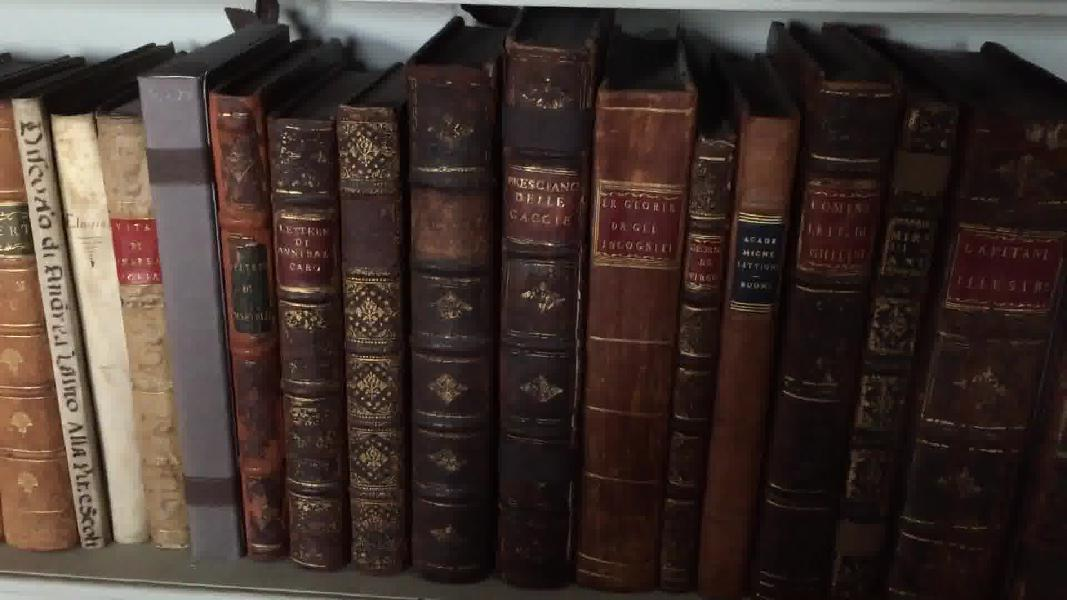Aa6-24: (6, 93, 123, 562)
Aa6-25: (36, 102, 152, 547)
Aa6-26: (97, 98, 200, 561)
Aa6-27: (125, 57, 251, 557)
Aa6-28: (198, 81, 296, 571)
Aa6-29: (271, 113, 355, 573)
Aa6-30: (319, 86, 421, 585)
Aa6-31: (404, 51, 513, 581)
Aa6-32: (493, 35, 585, 590)
Aa6-33: (577, 59, 682, 600)
Aa6-34: (656, 116, 732, 595)
Aa6-35: (690, 93, 809, 600)
Aa6-36: (748, 63, 913, 600)
Aa6-37: (821, 50, 947, 600)
Aa6-38: (902, 81, 1067, 600)
